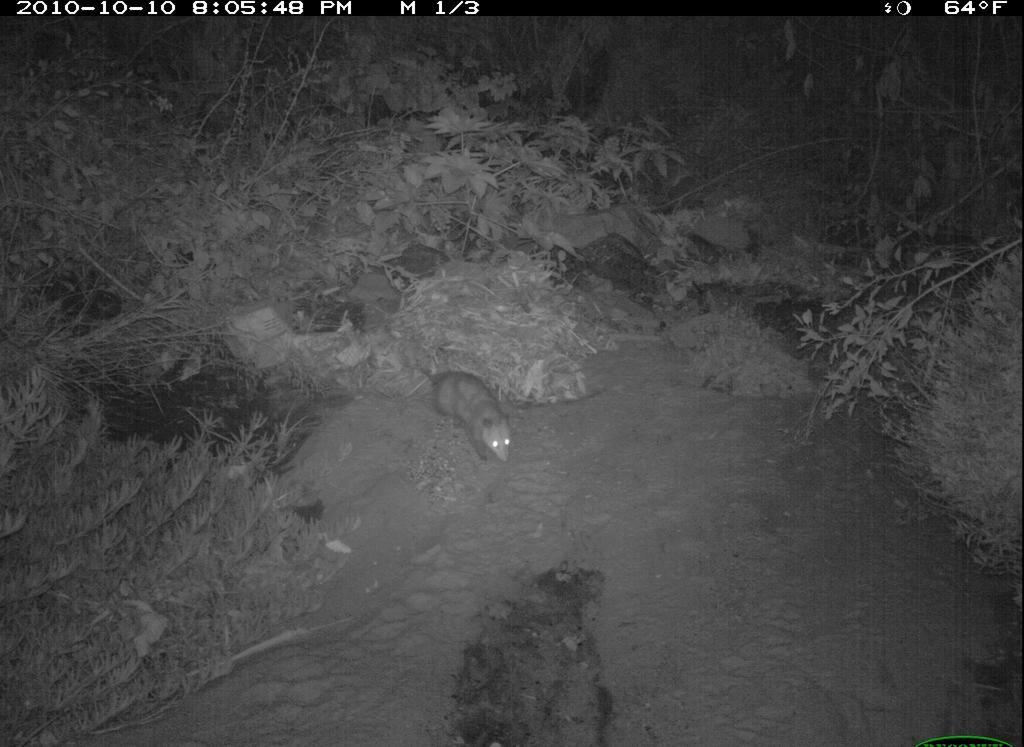opossum: (409, 345, 523, 474)
